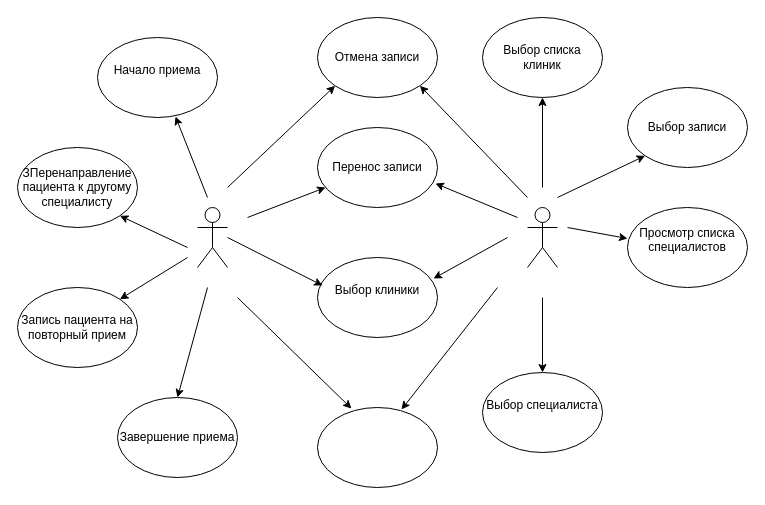
This 765x505 diagram has some shape labels left out. Here are the shapes that lost their labels. From the top down, the box of each, then its label:
(196, 206, 228, 268): Доктор
(526, 206, 558, 268): Пациент
(316, 406, 438, 488): Просмотр списка расписания(дата, время)
